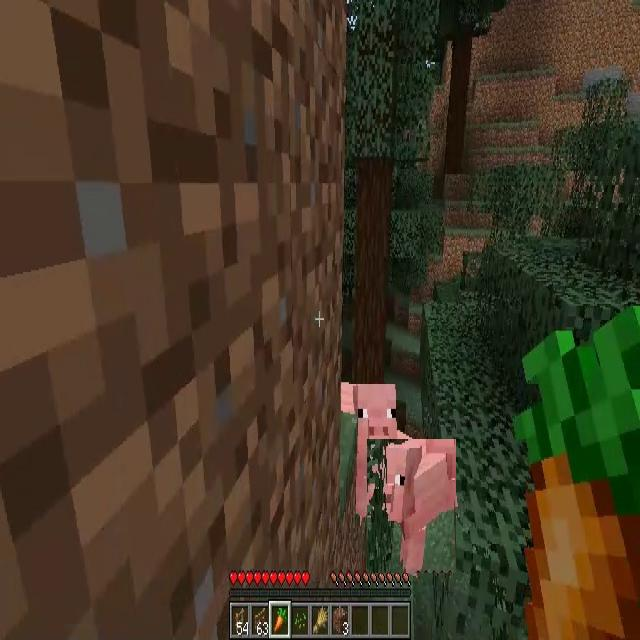pig: (367, 439, 456, 573), (339, 378, 398, 456)
